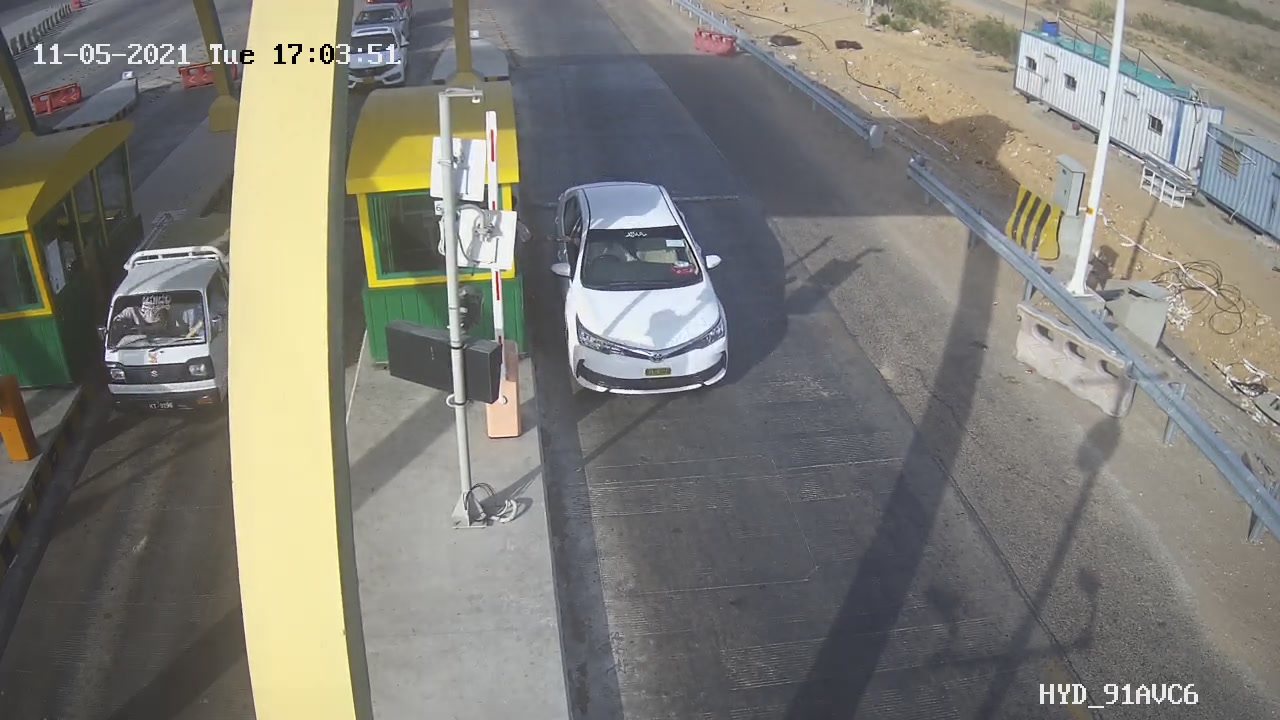F1: (531, 161, 747, 416)
